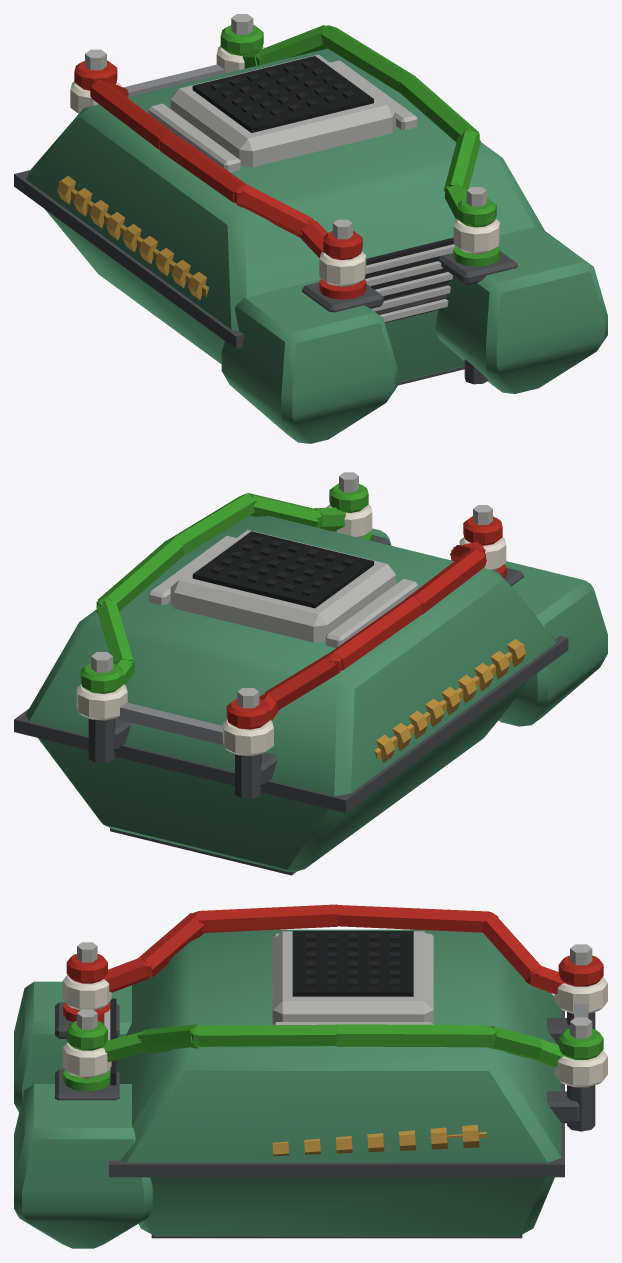
File: selector-combinator.glb
3 renders of one model, top to bottom at view 1: azimuth 30°, elevation 25°; view 2: azimuth 150°, elevation 25°; view 3: azimuth 270°, elevation 25°, orthographic. The views are drawn at different scales.
Parts seen in each view (by area): view 1: body; view 2: body; view 3: body.
Boxes of the visible parts, <box> form: body: <box>14,14,607,443</box>; body: <box>14,472,607,875</box>; body: <box>14,904,607,1248</box>.
Bounding box in the file's own units: 0.976 × 0.641 × 1.47.
